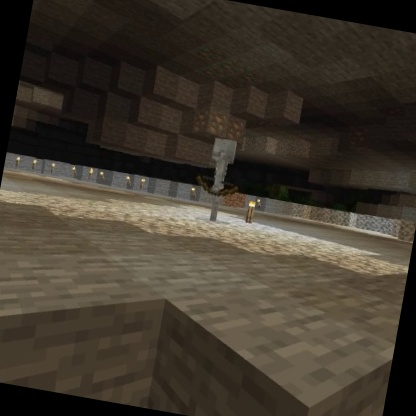skeleton: (186, 130, 251, 228)
